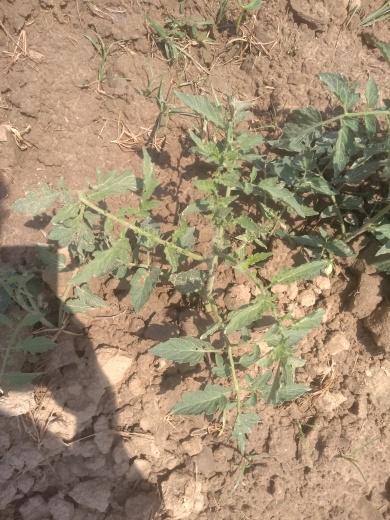tomato diseased leaf: (153, 337, 217, 367)
tomato plant: (93, 108, 388, 377)
